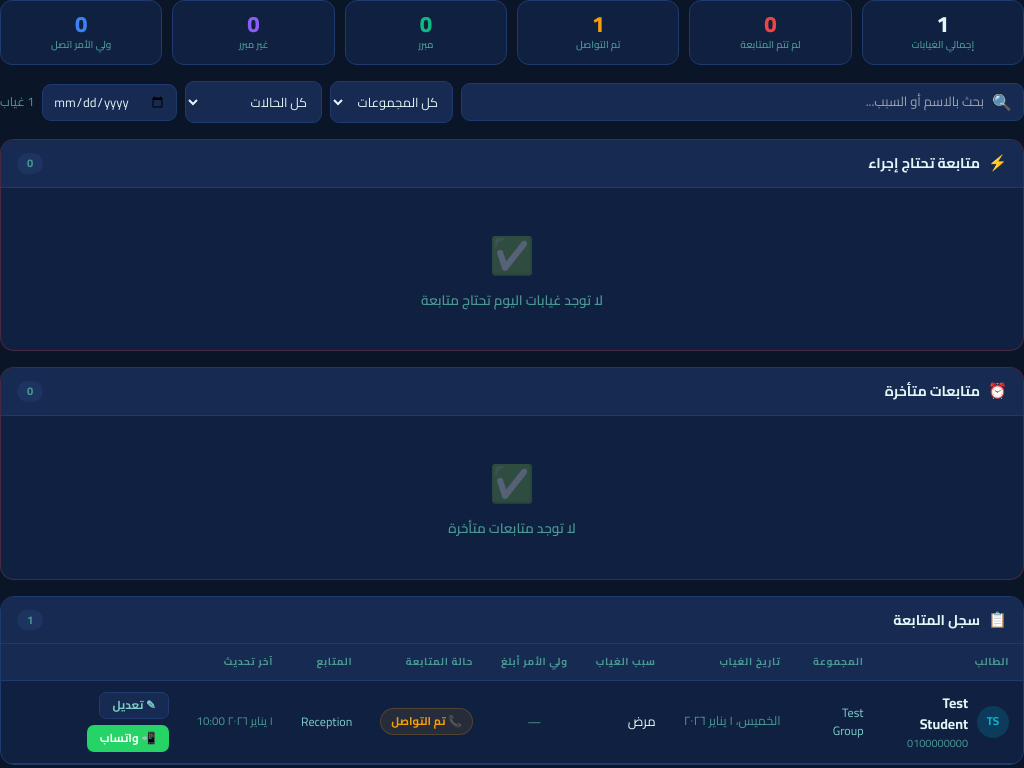
Test case: AbsenceFollowup — server-truth write path › update failure: leaves the existing local record untouched and shows the real server error
The width and height of the screenshot is (1024, 768).
Click the button "✎ تعديل" at {"x": 134, "y": 705}, box [100,692,169,719]
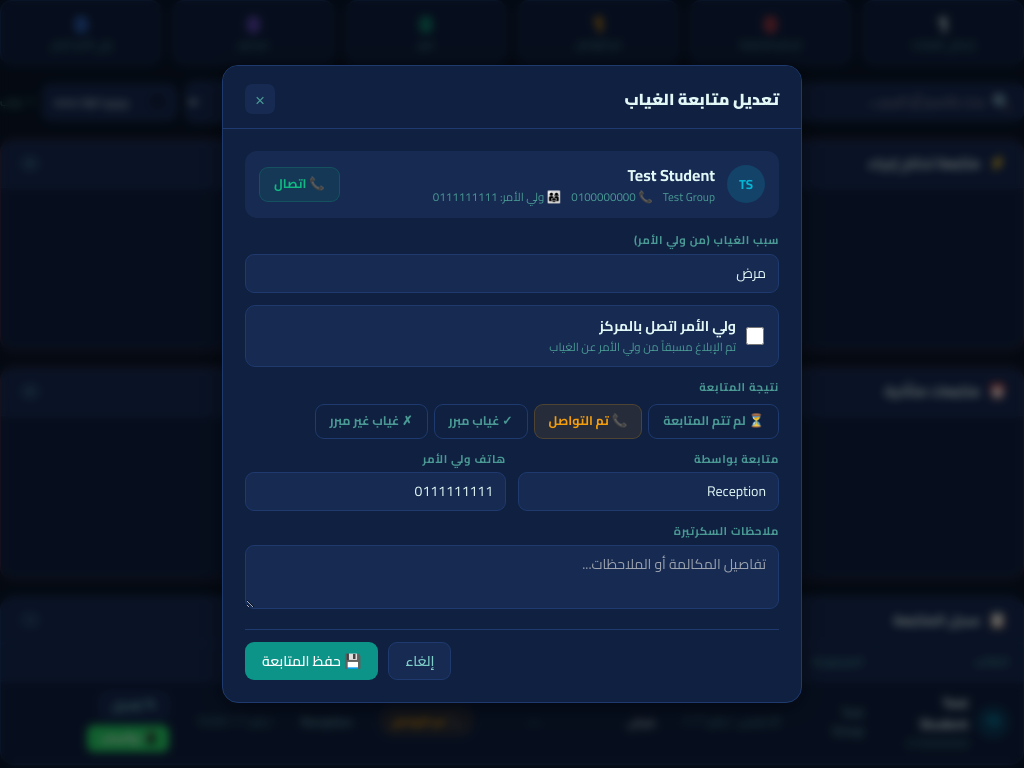
Click the button "💾 حفظ المتابعة" at {"x": 312, "y": 661}, box [245,642,378,680]
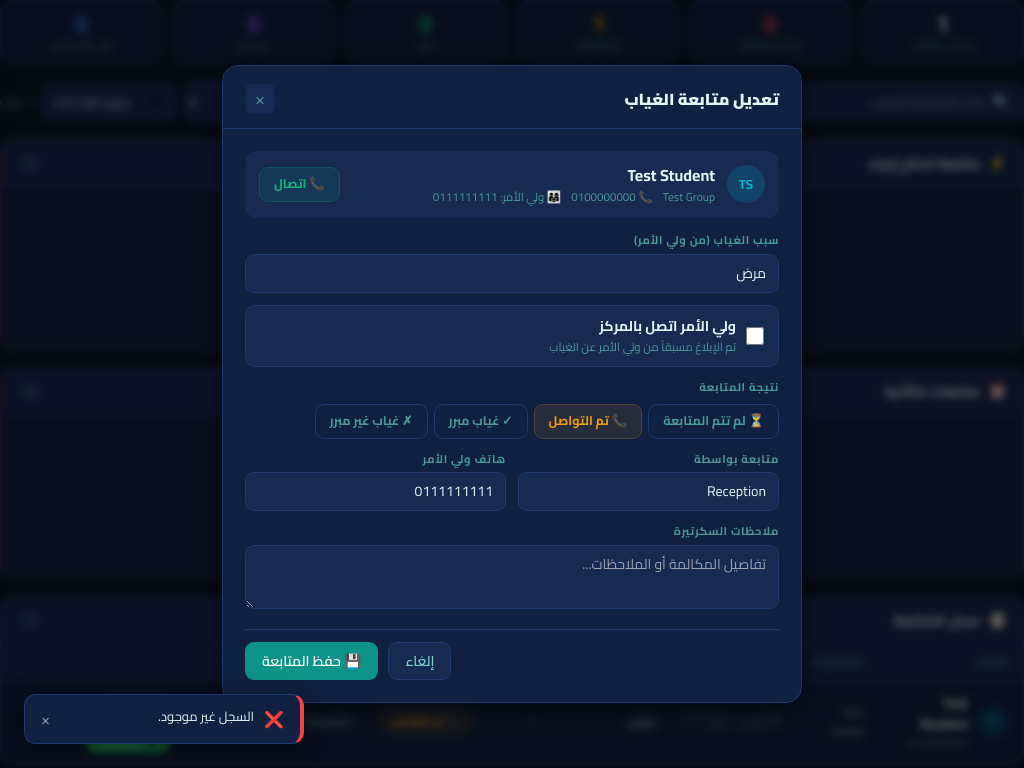
Now the text "السجل غير موجود." is shown, box [158,704,254,728]
